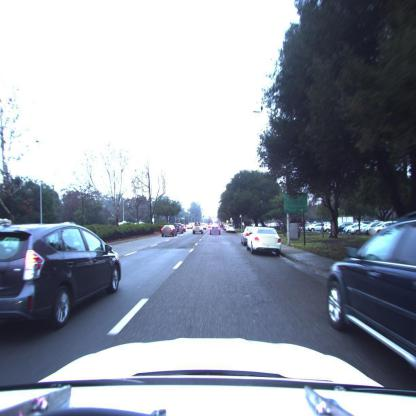car: (325, 206, 416, 411), (0, 223, 124, 332), (246, 227, 282, 256), (242, 227, 260, 248), (343, 222, 372, 235), (162, 224, 176, 236), (226, 223, 236, 235), (175, 224, 185, 235), (211, 225, 221, 235), (194, 226, 204, 234)
